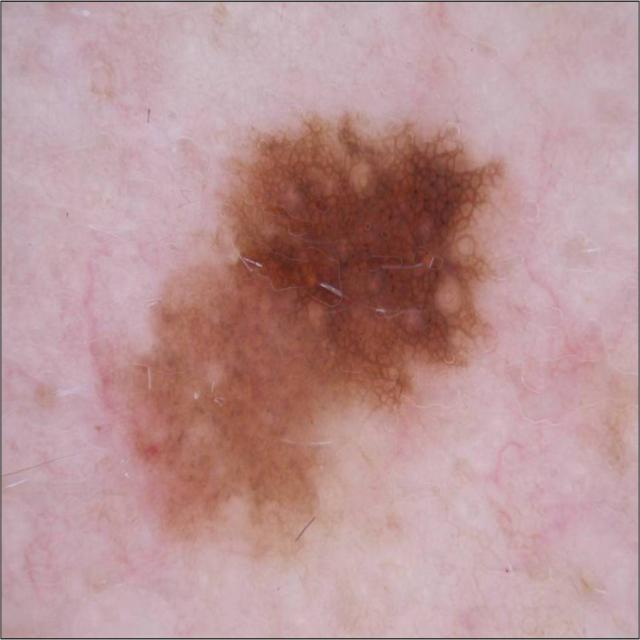Benign: (102, 101, 506, 561)
